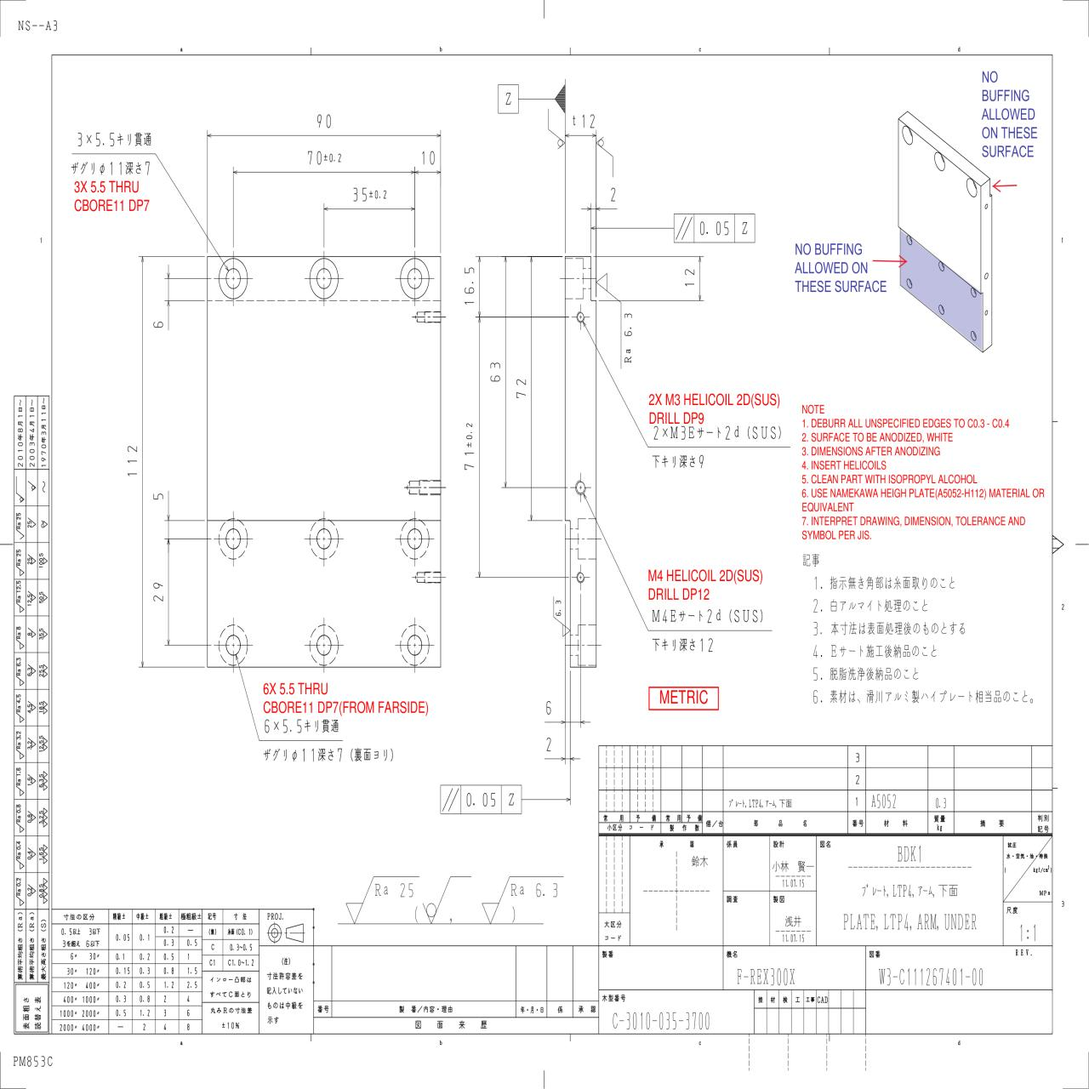basic_dimension: (464, 267, 475, 305), (700, 221, 729, 235), (467, 792, 496, 806), (127, 446, 137, 476), (153, 583, 164, 602), (317, 114, 331, 128), (422, 151, 435, 166), (490, 362, 500, 381), (516, 379, 526, 398), (685, 269, 695, 286), (153, 493, 164, 500), (546, 737, 551, 752), (611, 187, 616, 202), (153, 321, 163, 328), (546, 700, 551, 714)
datum_symbol: (498, 84, 565, 114)
dimension_diameter_symbol: (291, 748, 315, 764), (99, 161, 123, 176)
dimension_diameter_text: (301, 747, 315, 763), (109, 161, 122, 175)
dimension_metric_symbol: (669, 424, 687, 443), (651, 608, 668, 625)
dimension_metric_text: (680, 426, 686, 440), (663, 609, 668, 623)
dimension_thickness_symbol: (572, 114, 595, 128)
dimension_thickness_text: (582, 114, 595, 129)
explicit_tolerance_text: (307, 150, 342, 165), (353, 187, 387, 202), (464, 422, 474, 470)
gdt_frame_symbol: (440, 785, 522, 815), (674, 214, 755, 243)
gdt_parallelism_symbol: (448, 788, 459, 812), (442, 788, 453, 812), (681, 217, 692, 240), (676, 216, 686, 240)
surface_finish_symbol: (482, 876, 564, 925), (345, 876, 419, 925), (596, 273, 632, 369), (422, 876, 471, 925), (548, 108, 566, 150), (553, 596, 571, 637), (596, 136, 613, 178)
surface_finish_text: (536, 883, 558, 898), (400, 882, 413, 897), (624, 314, 632, 336), (555, 600, 561, 616)
